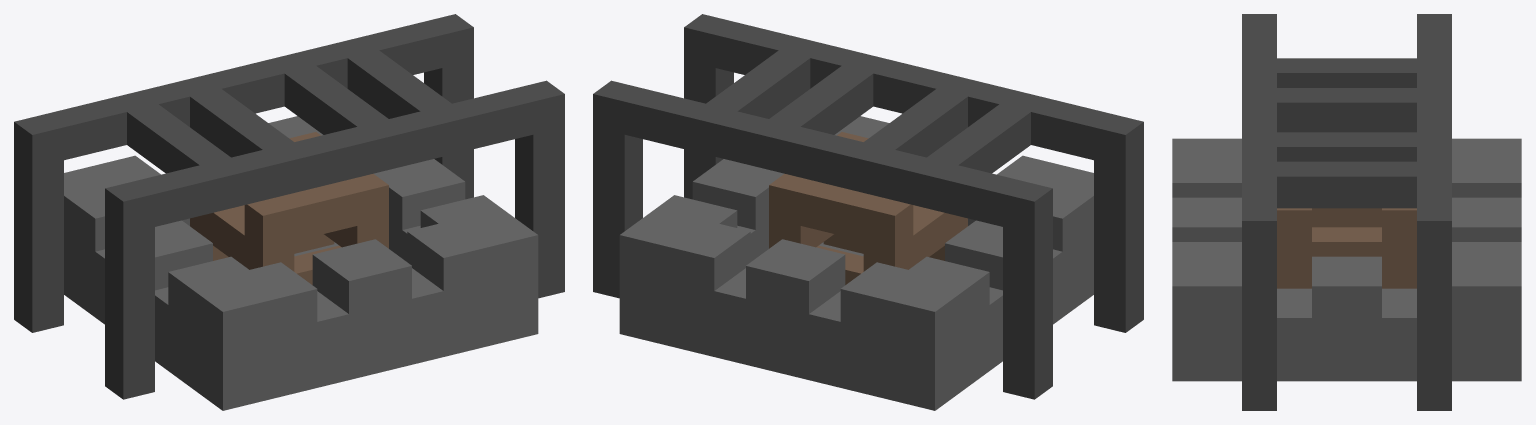
Rendered from campfire_with_grill.dae.
3 renders of one model, left to right at view 1: azimuth 30°, elevation 25°; view 2: azimuth 150°, elevation 25°; view 3: azimuth 270°, elevation 25°, orthographic. The views are drawn at different scales.
Visible parts, largest first — view 1: PlaneCOL; view 2: PlaneCOL; view 3: PlaneCOL.
Boxes of the visible parts, bbox=[...] form: PlaneCOL: bbox=[14, 14, 564, 410]; PlaneCOL: bbox=[593, 14, 1143, 410]; PlaneCOL: bbox=[1172, 14, 1521, 410].
Size of the model in its own units: 1.4 by 1 by 0.6.
